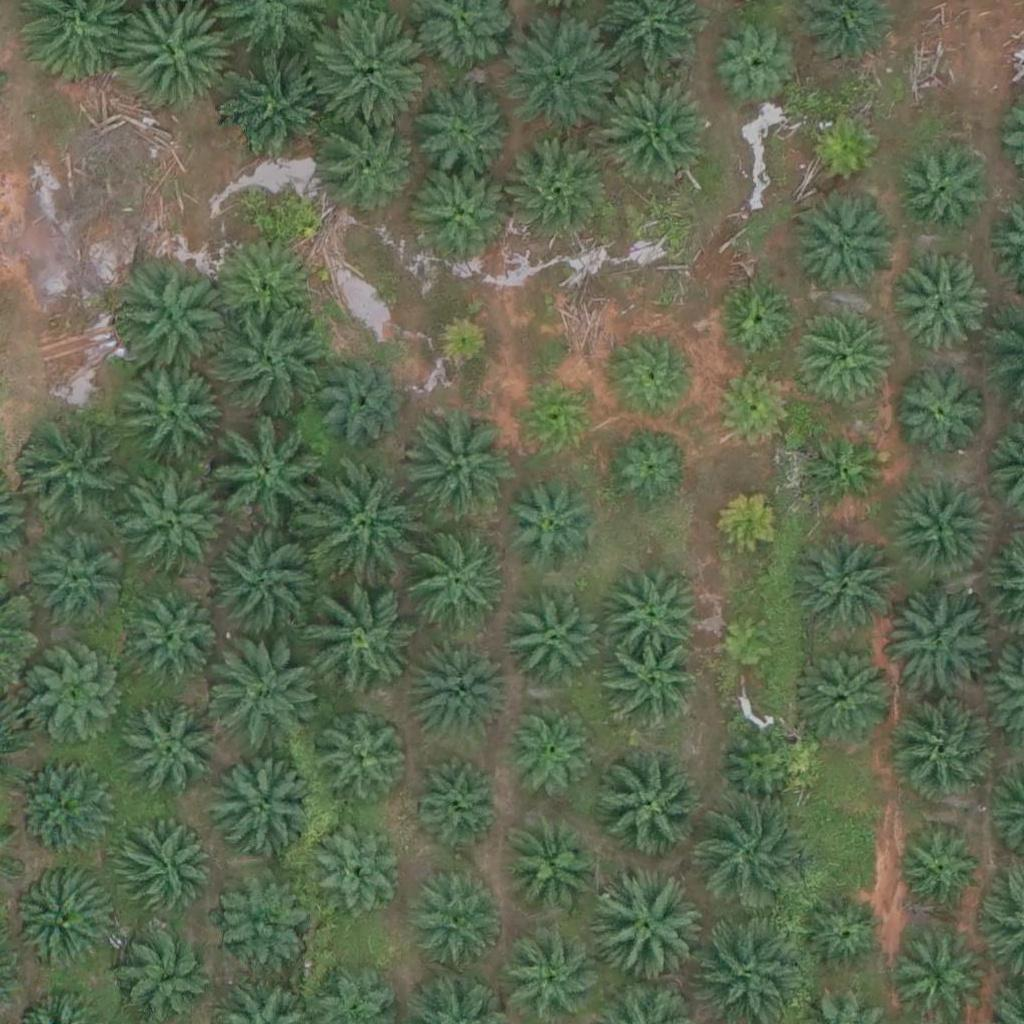Kelapa_Sawit: (789, 525, 902, 639), (593, 746, 706, 860), (887, 591, 1000, 704), (586, 874, 699, 987), (208, 526, 321, 639), (222, 49, 335, 162), (305, 473, 418, 586), (211, 422, 324, 535), (116, 265, 229, 378), (207, 643, 319, 757), (597, 77, 709, 191), (499, 134, 611, 248), (699, 797, 811, 910), (301, 582, 413, 695), (507, 23, 619, 136), (314, 8, 426, 121), (402, 409, 514, 522), (217, 305, 329, 418), (119, 455, 231, 568), (13, 418, 125, 531), (888, 478, 988, 579), (901, 701, 1001, 802), (802, 642, 902, 743), (602, 562, 702, 663), (496, 475, 596, 576), (503, 591, 603, 692), (503, 815, 603, 916), (409, 531, 509, 632), (406, 864, 506, 965), (314, 704, 414, 805), (214, 759, 314, 860), (119, 701, 219, 802), (111, 821, 211, 922), (116, 921, 216, 1022), (17, 756, 117, 857), (14, 872, 114, 973), (894, 136, 994, 237), (894, 246, 994, 347), (887, 369, 987, 470), (792, 198, 892, 299), (791, 306, 891, 407), (415, 79, 515, 180), (310, 118, 410, 219), (216, 235, 316, 336), (124, 369, 224, 470), (405, 646, 505, 746), (210, 871, 310, 971), (20, 651, 120, 751), (415, 165, 515, 265), (506, 713, 594, 802), (719, 727, 807, 815), (611, 642, 699, 730), (411, 757, 499, 845), (802, 102, 890, 190), (610, 330, 698, 418), (610, 422, 698, 510), (708, 362, 796, 450), (716, 273, 804, 361), (711, 18, 799, 106), (323, 355, 411, 443), (897, 828, 984, 917), (800, 895, 887, 983), (312, 825, 399, 913), (131, 596, 218, 684), (33, 541, 120, 629), (511, 372, 598, 460), (801, 422, 888, 510), (713, 484, 788, 560), (428, 313, 491, 376), (718, 613, 780, 676)
